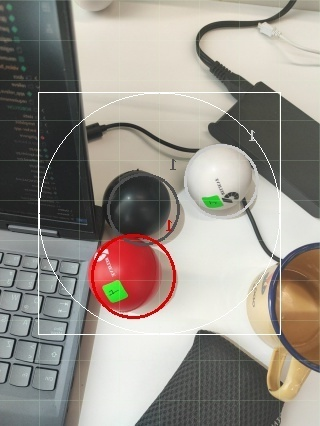Pelota blanca: (268, 241, 320, 371), (183, 142, 260, 219), (250, 180, 318, 259), (266, 345, 310, 400), (279, 393, 320, 425), (74, 0, 116, 11)
Pelota negra: (101, 169, 185, 243)
Pelota roja: (87, 233, 180, 320)
